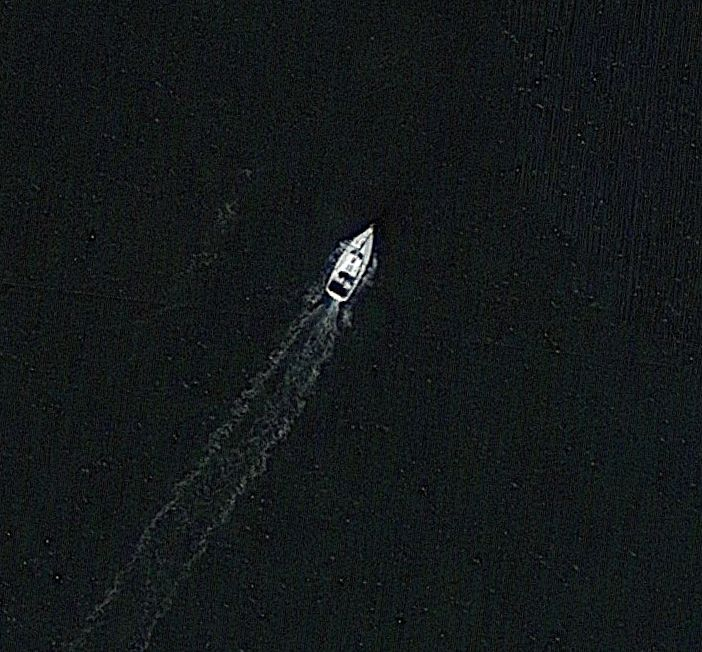boat: (322, 223, 379, 304)
